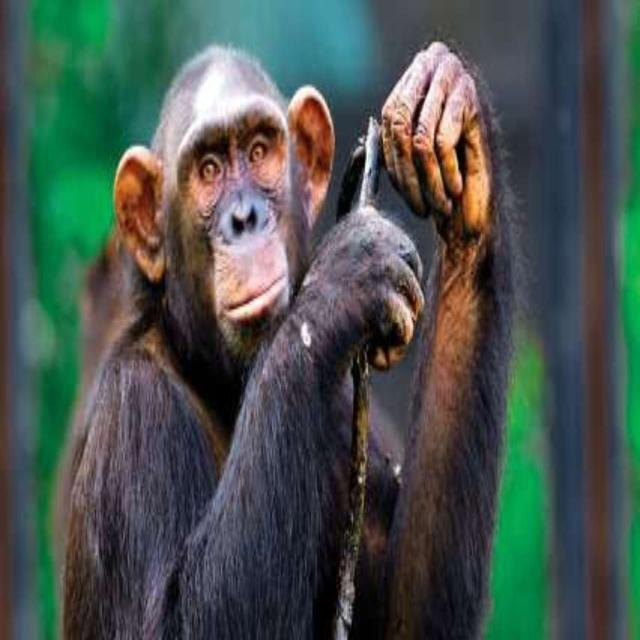Chimpanzee: (63, 44, 499, 640)
